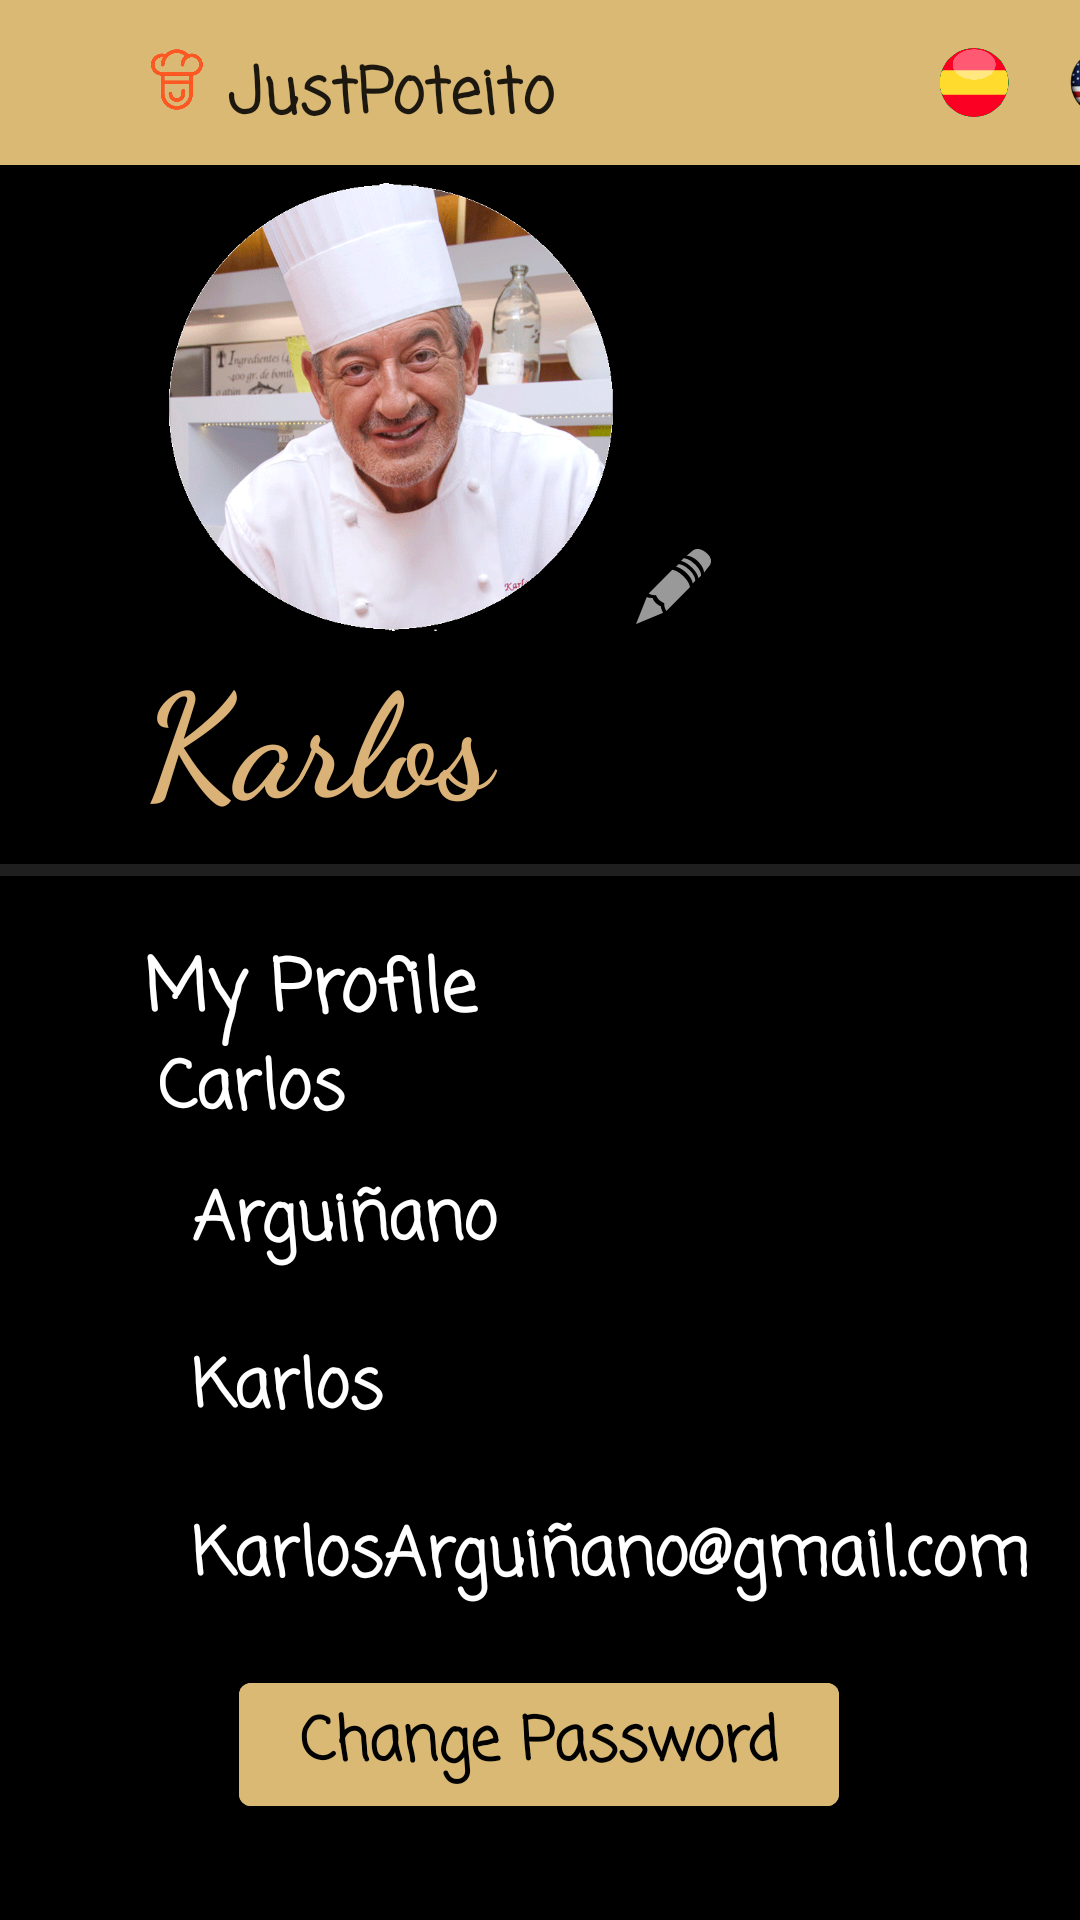

Icons on this 1080x1920 Android screen, each with its box as bbox=[x1, y1, x2, y2]:
spanish: bbox=[940, 48, 1009, 117]
